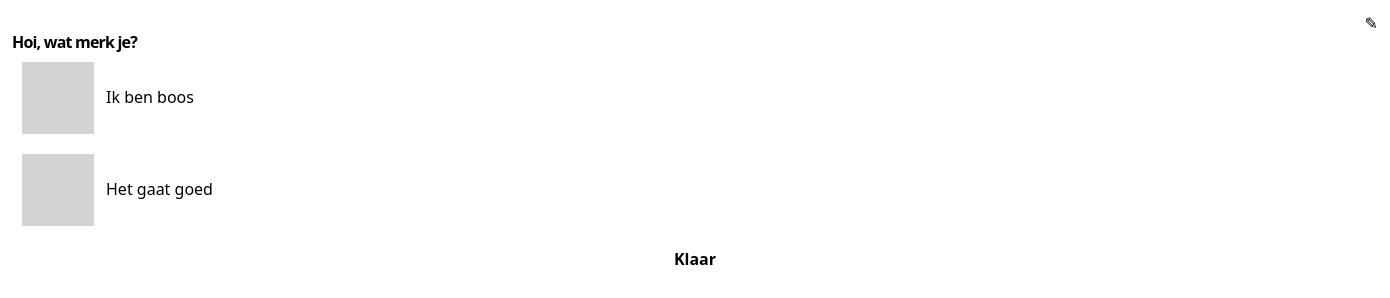
Scenario: App › coming back to the app gives the start screen with nothing tapped
Later steps or results of the test are not shown.
Click the button "Ik ben boos": (58, 98) [12,52,1378,144]
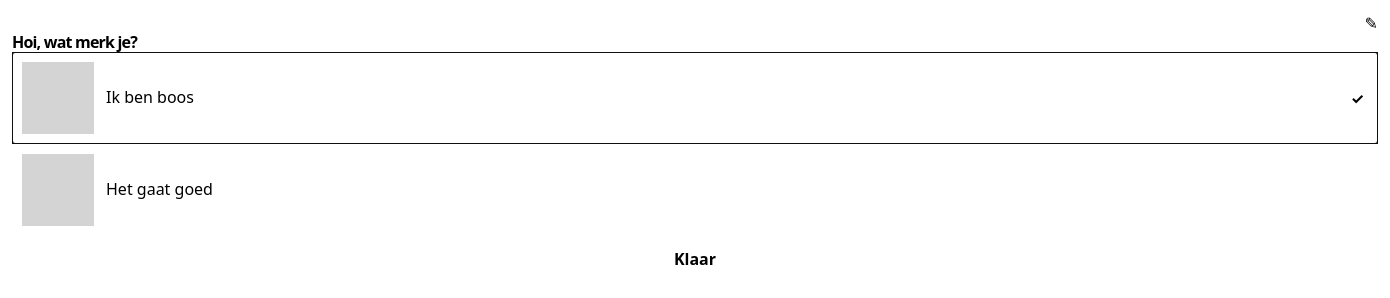
Click the button "Klaar": (695, 259) [12,236,1378,282]
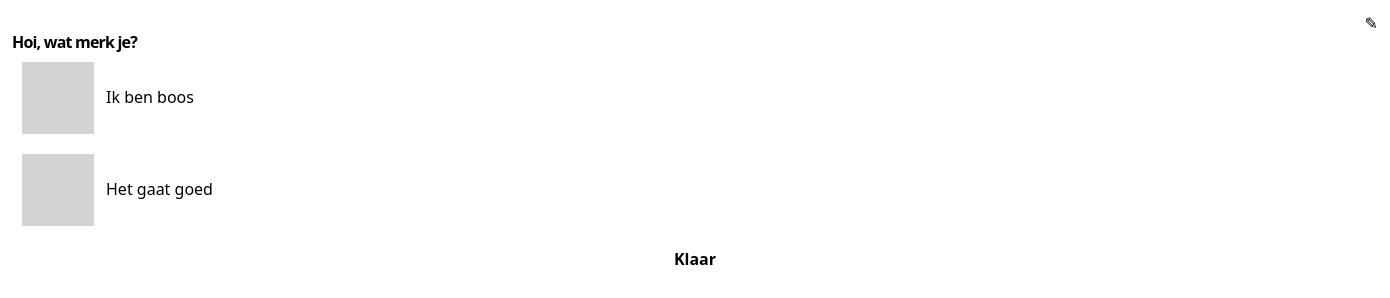
Expected: the heading "Hoi, wat merk je?" is shown, [12,31,137,53]
Click the button "Ik ben boos": (58, 98) [12,52,1378,144]
Expected: the button "Ik ben boos" is not pressed, [12,52,1378,144]
